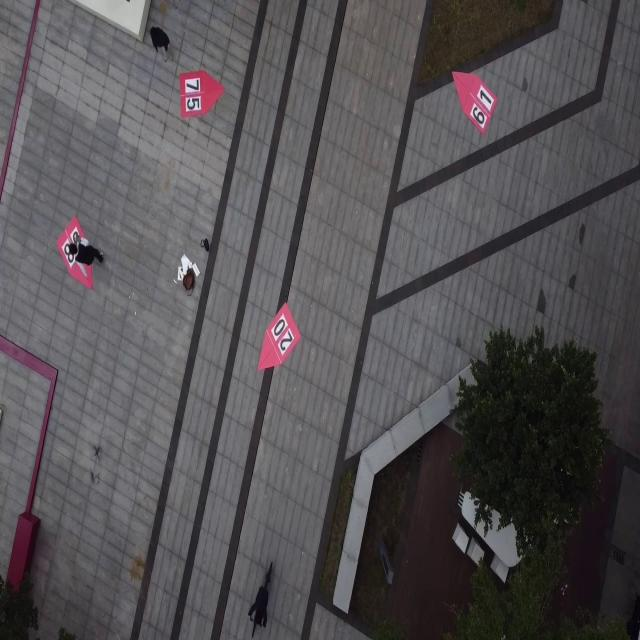-sign-: (257, 300, 301, 372)
